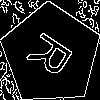R: (25, 29, 82, 85)
